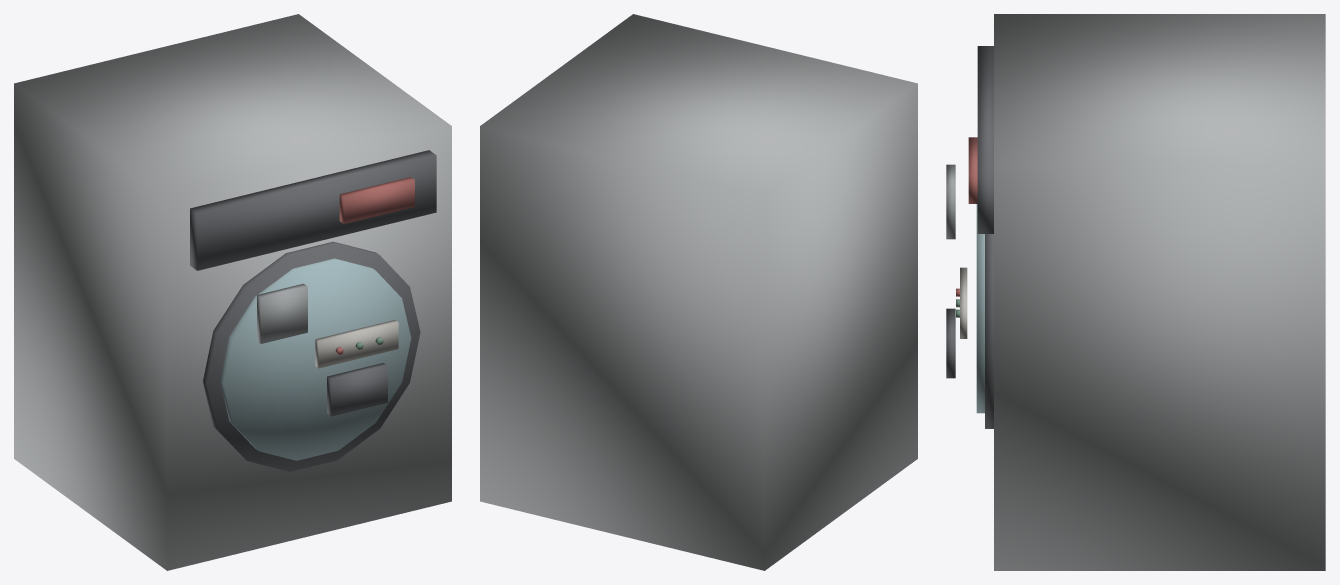
The model's file is industrial_dryer__weathered.glb.
The picture shows the model from 3 angles, left to right: view 1: azimuth 30°, elevation 25°; view 2: azimuth 150°, elevation 25°; view 3: azimuth 270°, elevation 25°; orthographic projection. The views are drawn at different scales.
Parts seen in each view (by area): view 1: world; view 2: world; view 3: world.
Boxes of the visible parts, box(x1,y1,x2,y2) form: world: box(14, 14, 451, 570); world: box(480, 14, 917, 570); world: box(946, 14, 1325, 570).
Bounding box in the file's own units: 0.88 × 1.11 × 0.9377.
